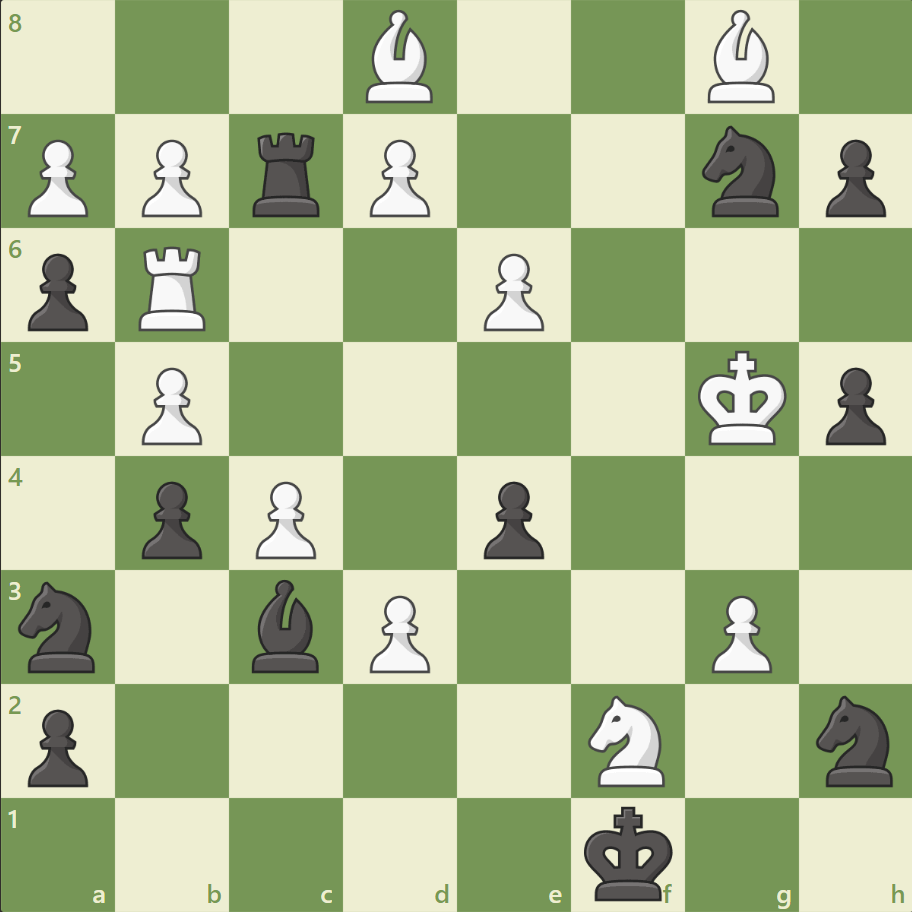B: (358, 6, 442, 109), (698, 6, 782, 109)
K: (692, 344, 792, 452)
N: (579, 688, 676, 791)
P: (20, 132, 95, 223), (133, 132, 208, 223), (474, 246, 549, 337), (133, 359, 208, 450), (247, 473, 322, 564), (701, 586, 776, 677), (361, 132, 435, 223), (361, 586, 435, 677)
R: (133, 239, 215, 336)
b: (244, 574, 328, 676)
k: (579, 798, 679, 906)
n: (806, 688, 903, 791), (692, 121, 789, 223), (11, 575, 108, 677)
p: (20, 246, 95, 337), (133, 473, 208, 564), (474, 473, 549, 564), (20, 700, 95, 791), (815, 132, 889, 223), (815, 359, 889, 450)
r: (246, 125, 329, 222)
